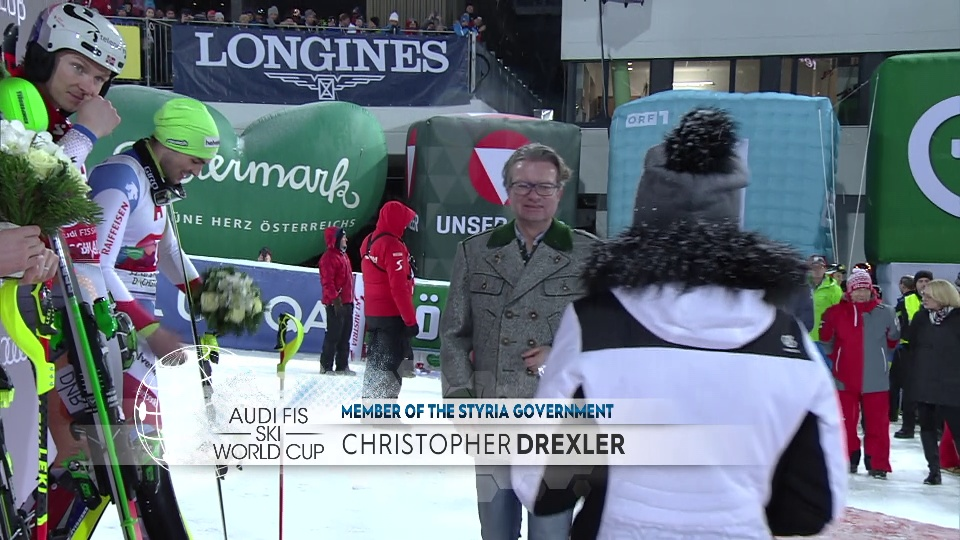a1: (153, 207, 163, 221)
longines: (198, 21, 454, 99)
steiermark: (193, 125, 371, 222)
unserheer: (438, 117, 563, 241), (399, 128, 434, 248)
